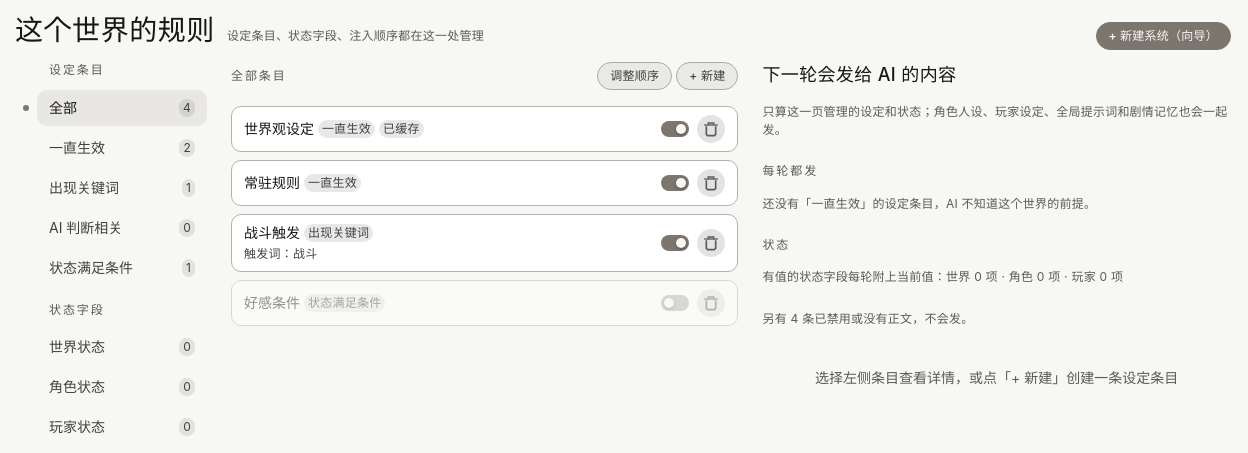
RulesPage › 调整顺序：切到顺序视图后全部条目一起展示
Step 1. Click the button with test id "nav-entries-always" → (122, 148), box [37,130,207,166]
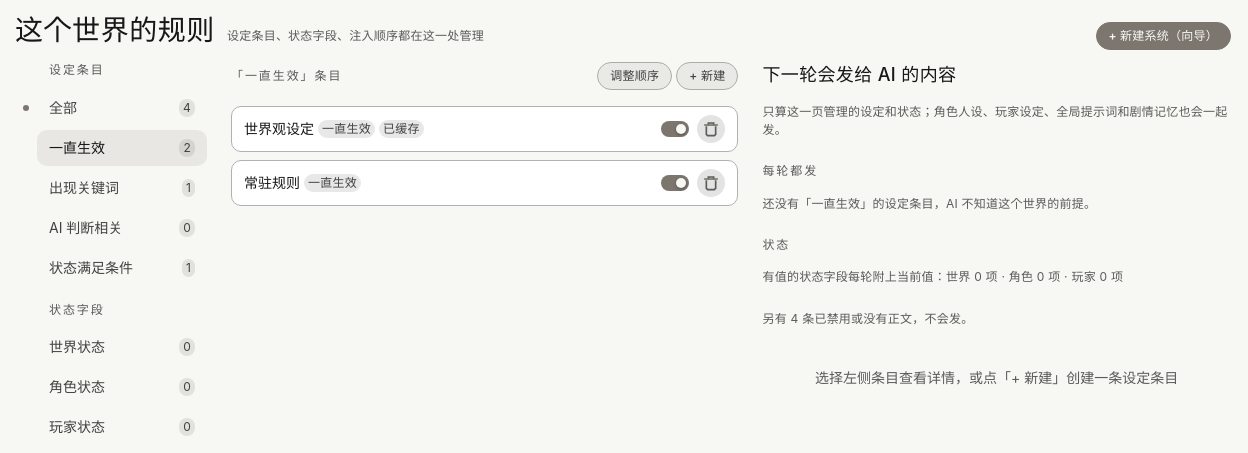
Step 2. Click the button "调整顺序" → (635, 76), box [597,62,672,90]
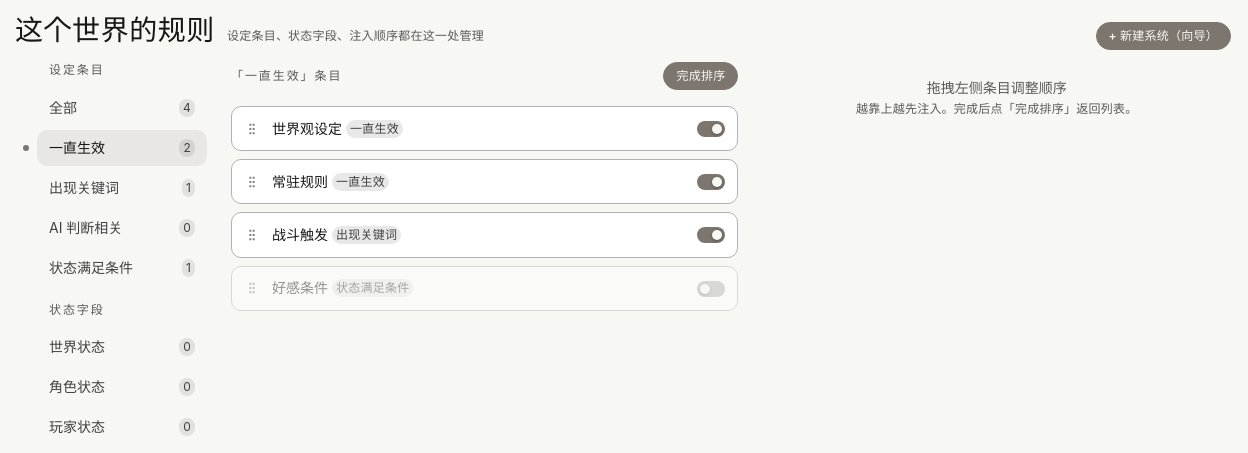
Result: the button "完成排序" is shown at [664,62,738,90]
Result: the text "战斗触发" is shown at [272,225,328,245]
Result: the text "好感条件" is shown at [272,278,328,298]
